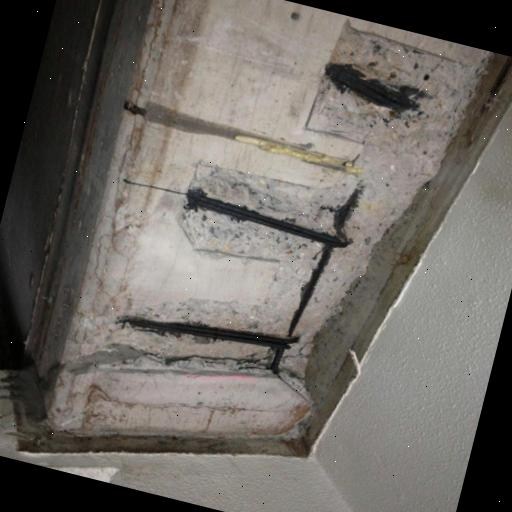spalling: (102, 25, 480, 372)
